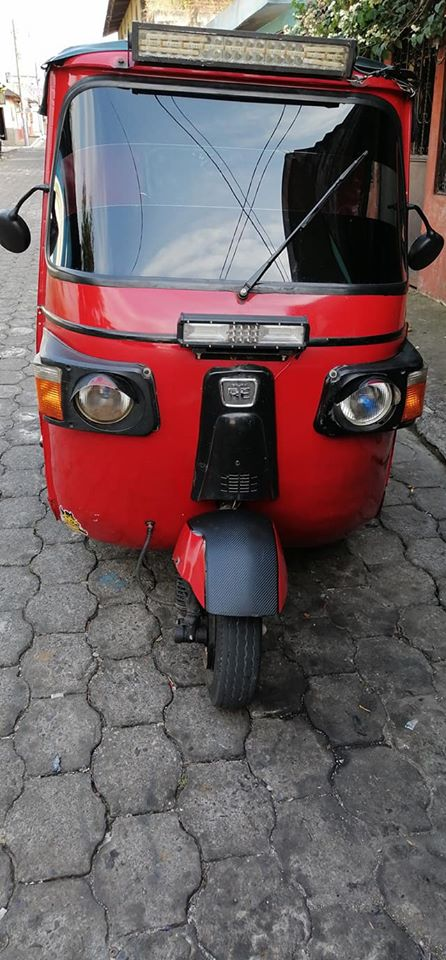mototaxi: (10, 20, 444, 710)
